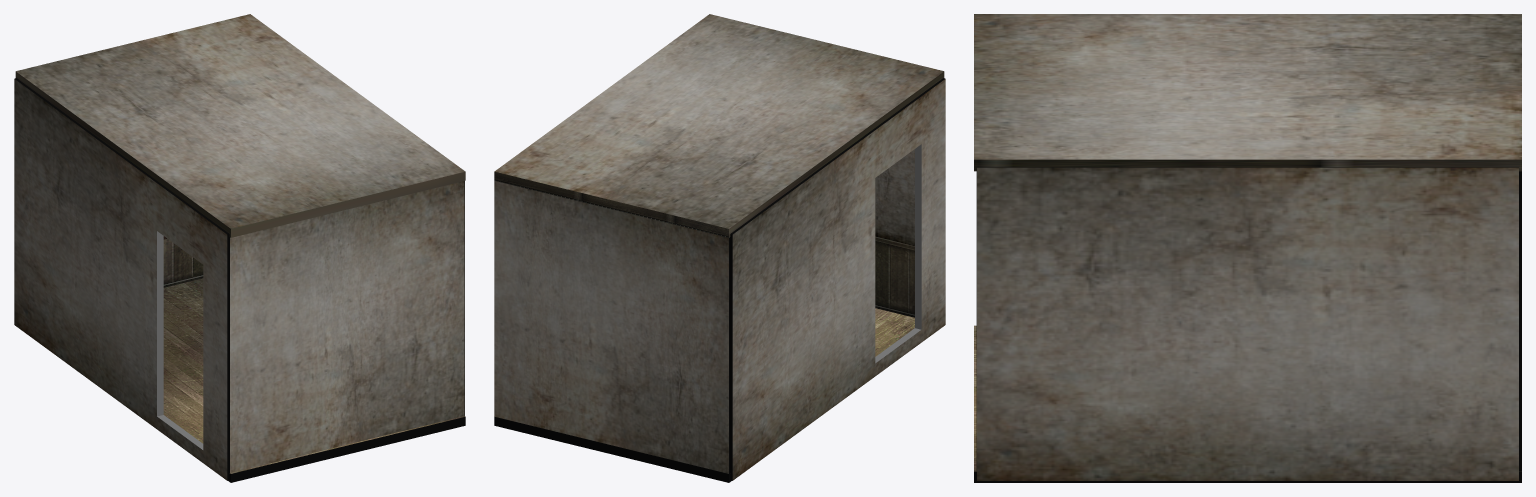
Rendered from cuarto.obj.
3 renders of one model, left to right at view 1: azimuth 30°, elevation 25°; view 2: azimuth 150°, elevation 25°; view 3: azimuth 270°, elevation 25°, orthographic. The views are drawn at different scales.
Parts seen in each view (by area): view 1: Radiator_001:Mesh1; view 2: Radiator_001:Mesh1; view 3: Radiator_001:Mesh1.
Boxes of the visible parts, x1,y1,x2,y2 form: Radiator_001:Mesh1: (14, 14, 465, 482); Radiator_001:Mesh1: (494, 14, 945, 482); Radiator_001:Mesh1: (974, 14, 1521, 482).
Bounding box in the file's own units: 4.8 × 4.9 × 7.53.
Materials: 8 (6 with a texture image).
